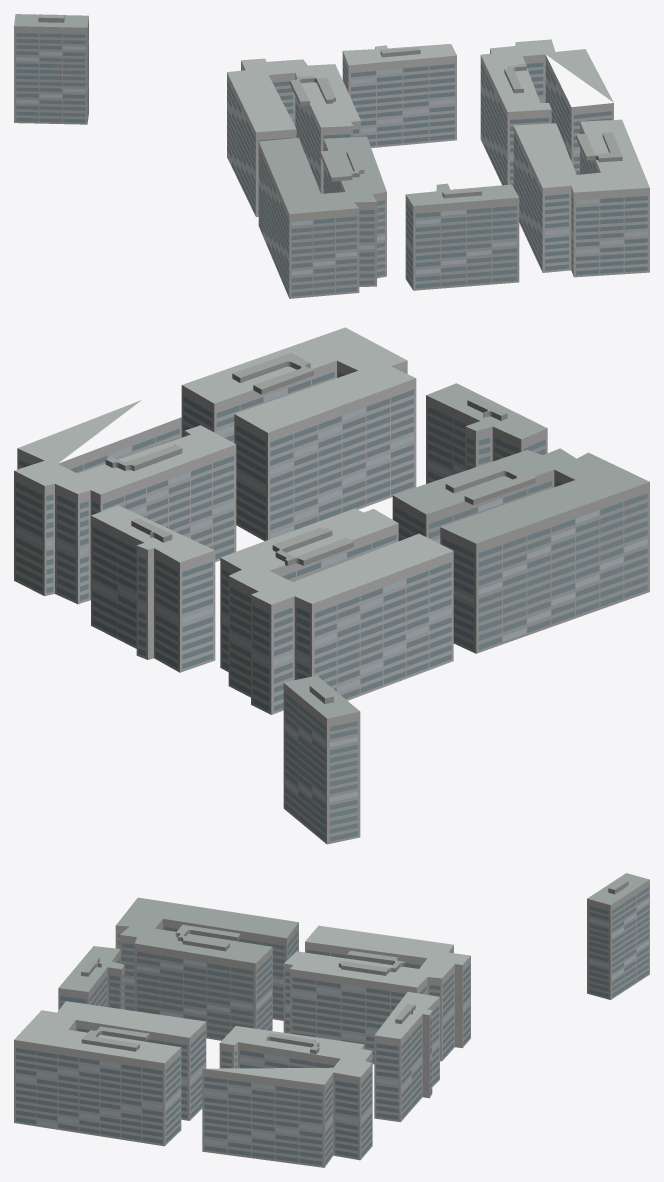
The model's file is apt-a13811206.glb.
3 views of the same model, one above another, from view 1: azimuth 30°, elevation 25°; view 2: azimuth 150°, elevation 25°; view 3: azimuth 270°, elevation 25° (orthographic). The views are drawn at different scales.
Parts seen in each view (by area): view 1: apt-a13811206; view 2: apt-a13811206; view 3: apt-a13811206.
Part boxes in pixels (bbox=[...]): apt-a13811206: bbox=[14, 14, 649, 298]; apt-a13811206: bbox=[14, 327, 649, 844]; apt-a13811206: bbox=[14, 873, 649, 1167].
Size of the model in its own units: 172 by 40 by 232.
